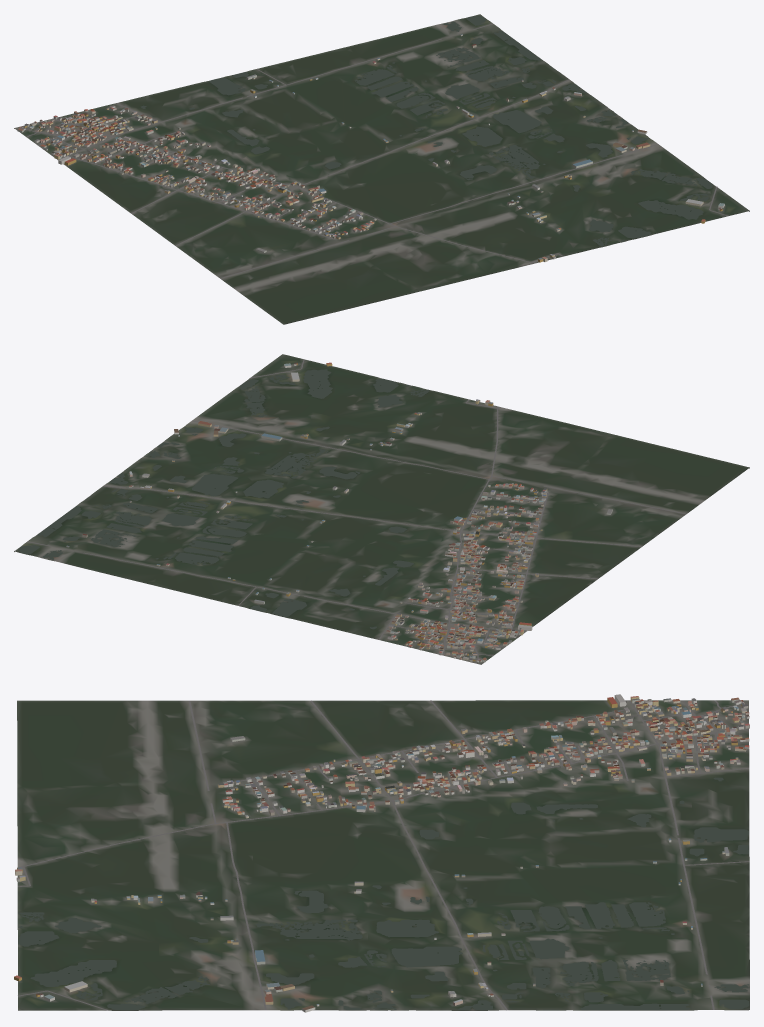
The picture shows the model from 3 angles, top to bottom: view 1: azimuth 30°, elevation 25°; view 2: azimuth 150°, elevation 25°; view 3: azimuth 270°, elevation 25°; orthographic projection. The views are drawn at different scales.
Visible parts, largest first — view 1: ground, water, buildings, roads; view 2: ground, water, buildings, roads; view 3: ground, water, buildings, roads.
Boxes of the visible parts, box(x1,y1,x2,y2) form: ground: box(14, 14, 749, 324); water: box(140, 15, 713, 246); buildings: box(17, 34, 724, 262); roads: box(25, 23, 727, 278); ground: box(14, 354, 749, 664); water: box(18, 369, 430, 629); buildings: box(66, 362, 612, 662); roads: box(27, 359, 686, 659); ground: box(17, 700, 749, 1010); water: box(18, 777, 749, 1010); buildings: box(14, 694, 749, 1012); roads: box(17, 700, 749, 1010).
Bounding box in the file's own units: 1422 × 14.43 × 1410.
